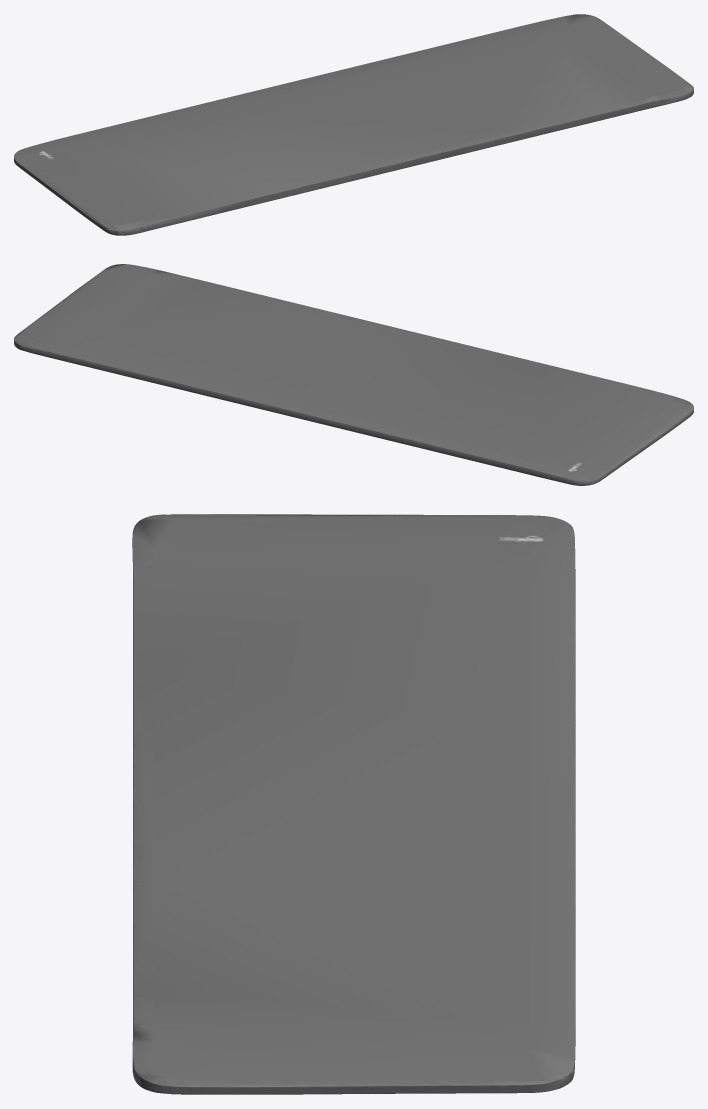
File: tapis_exercice.glb
3 views of the same model, one above another, from view 1: azimuth 30°, elevation 25°; view 2: azimuth 150°, elevation 25°; view 3: azimuth 270°, elevation 25° (orthographic). The views are drawn at different scales.
Visible parts, largest first — view 1: RootNode; view 2: RootNode; view 3: RootNode.
Part boxes in pixels (bbox=[...]): RootNode: bbox=[14, 14, 693, 235]; RootNode: bbox=[14, 264, 693, 485]; RootNode: bbox=[132, 514, 575, 1094].
Size of the model in its own units: 1.88 by 0.0214 by 0.6156.
1 material, 1 textured.
